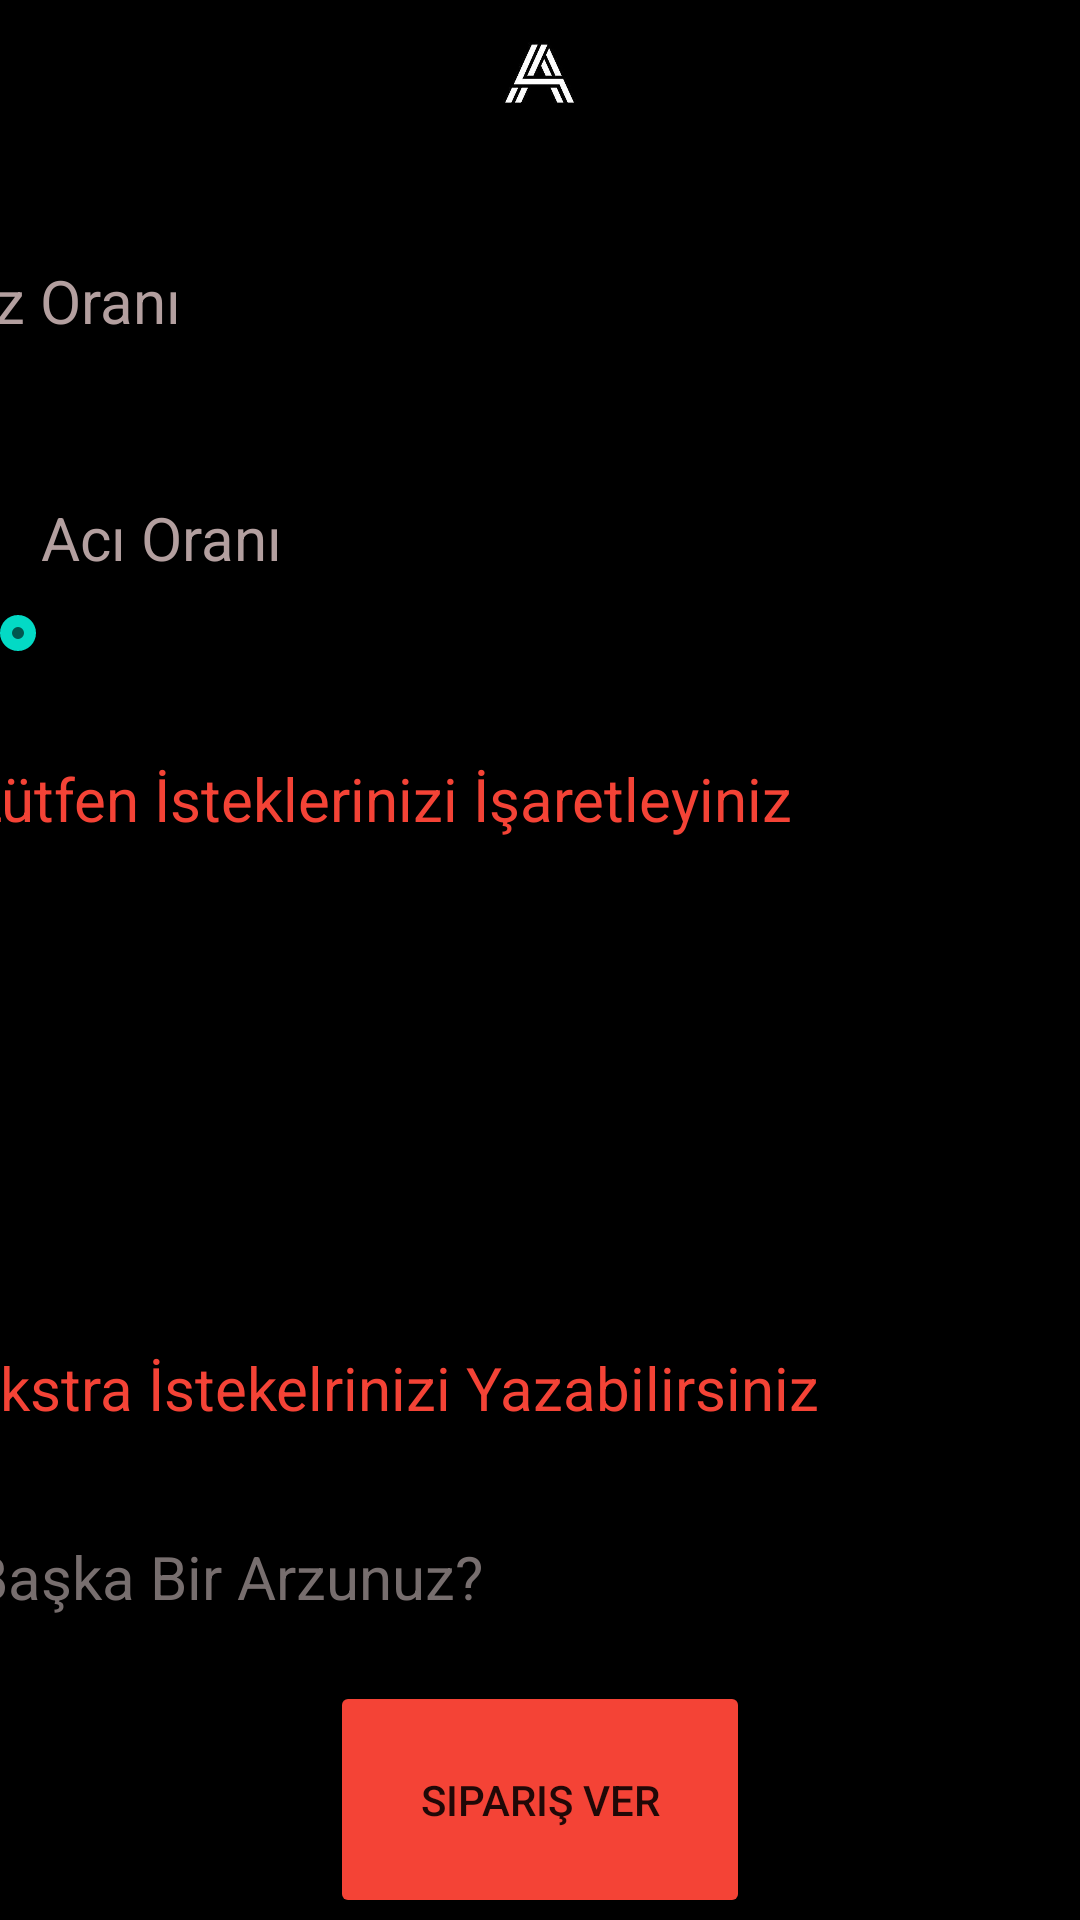

Screen size 1080×1920. Icon name, then its center in pixels as (x=x, y=y):
loggo: (x=539, y=73)
